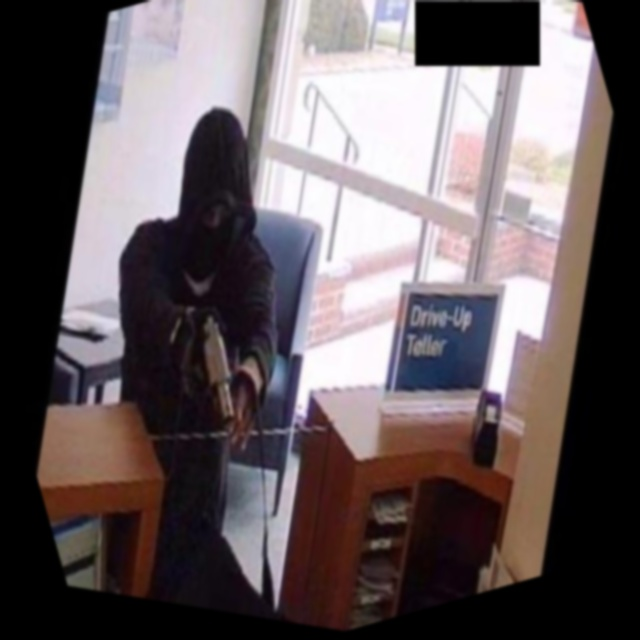gun: (147, 295, 280, 446)
